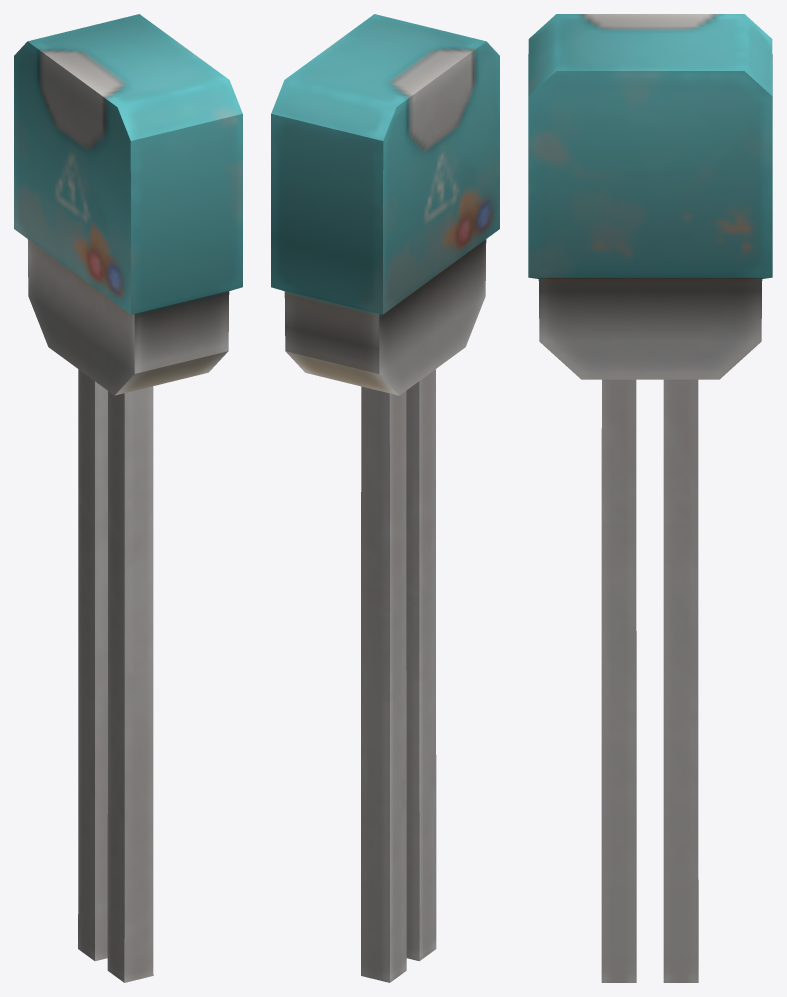
File: SM_Ammeter.fbx
The picture shows the model from 3 angles, left to right: view 1: azimuth 30°, elevation 25°; view 2: azimuth 150°, elevation 25°; view 3: azimuth 270°, elevation 25°; orthographic projection. The views are drawn at different scales.
Parts seen in each view (by area): view 1: OutDoor_New; view 2: OutDoor_New; view 3: OutDoor_New.
Part boxes in pixels (bbox=[...]): OutDoor_New: bbox=[14, 14, 242, 982]; OutDoor_New: bbox=[271, 14, 499, 982]; OutDoor_New: bbox=[528, 14, 772, 982].
Size of the model in its own units: 0.3105 by 2.38 by 0.5611.
Materials: 1 (1 with a texture image).
